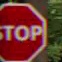Stop: (0, 0, 57, 61)
